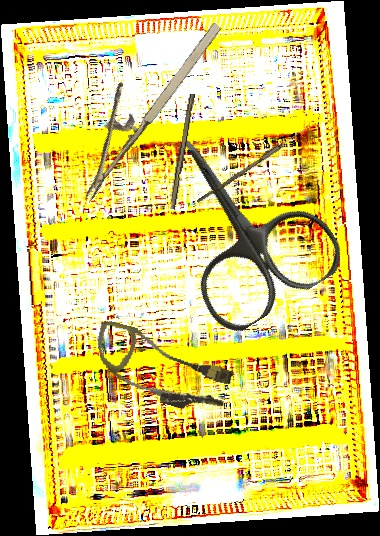Cannula: (85, 319, 239, 419)
Iris Scissors: (127, 102, 351, 341)
Needle Holder: (48, 0, 228, 203)
Scalpel Handle: (167, 93, 196, 210)
Surgical Spoon: (196, 122, 312, 206)
